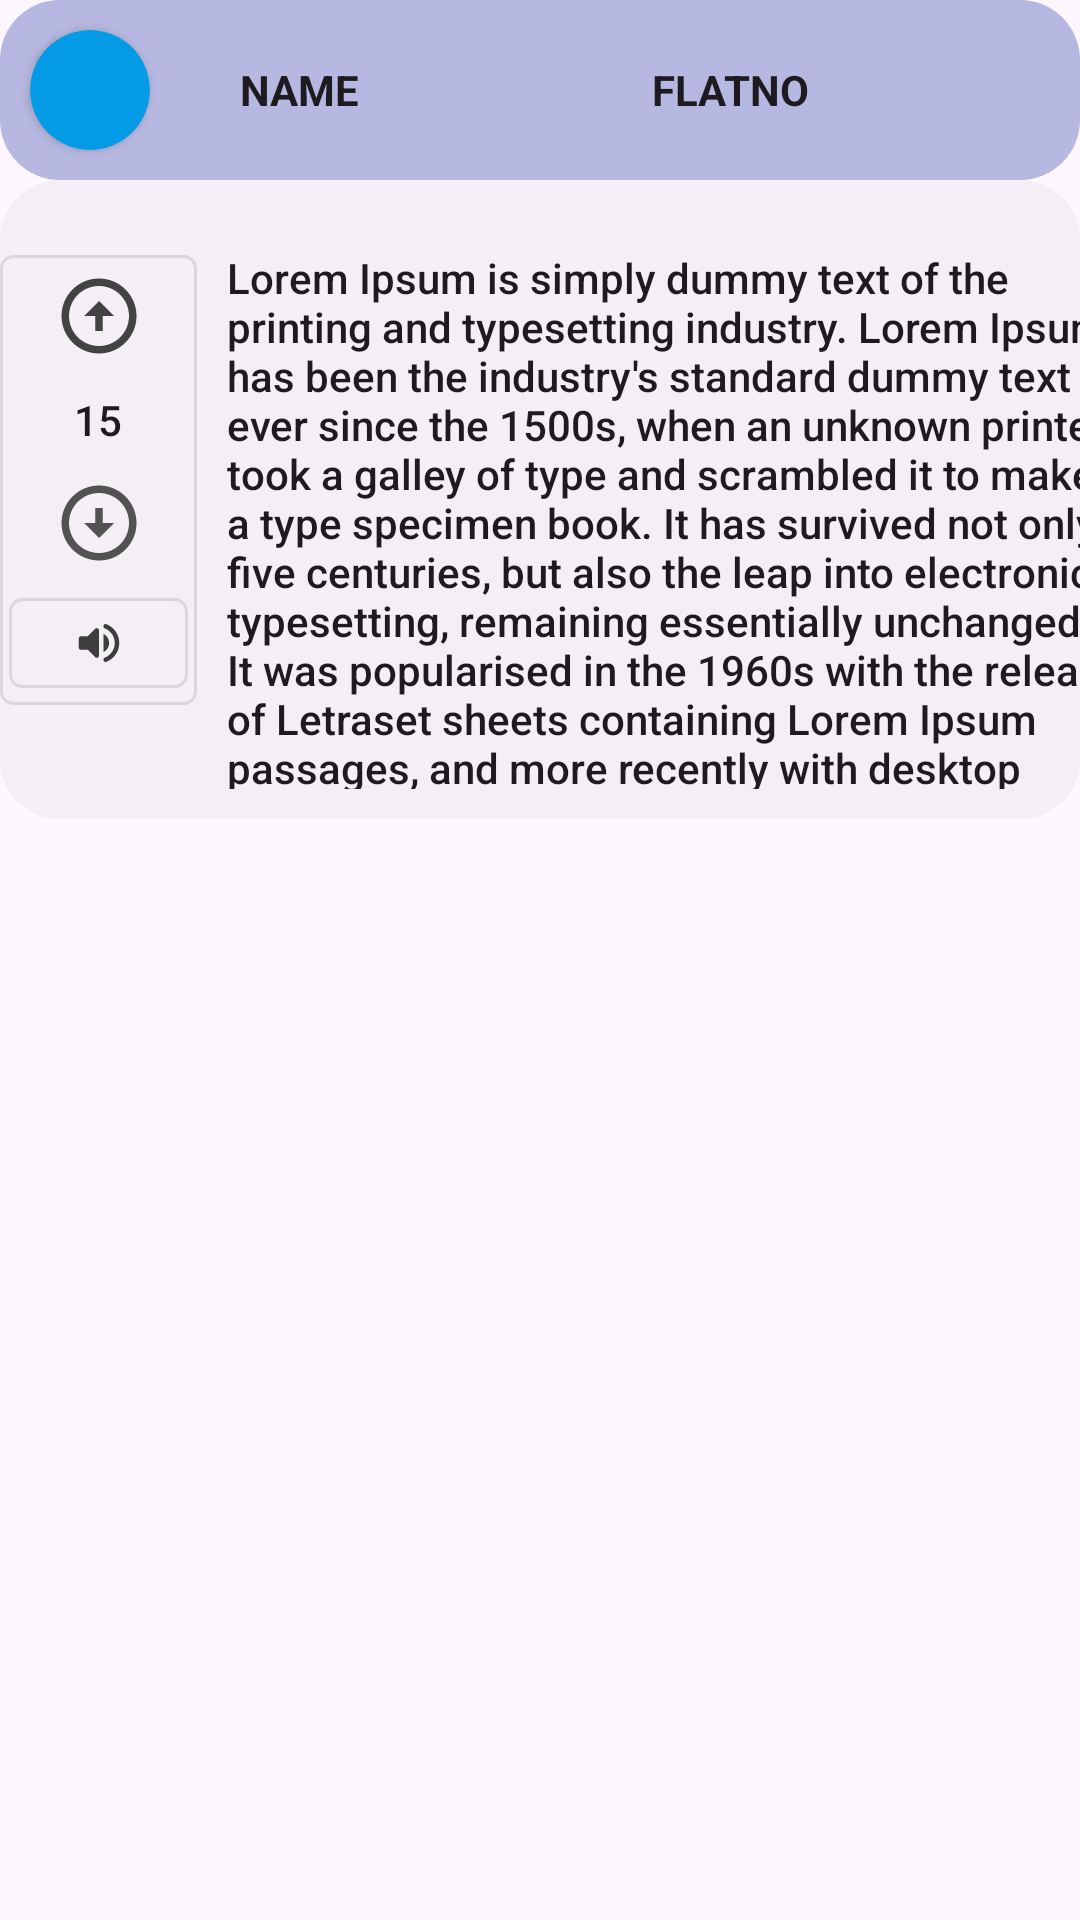

Icon bounding boxes for this 1080×1920 phone screenshot, format (x1, y1, x2, y2):
arrow down: (61, 485, 137, 561)
arrow up: (61, 278, 137, 354)
speaker: (9, 598, 188, 688)
